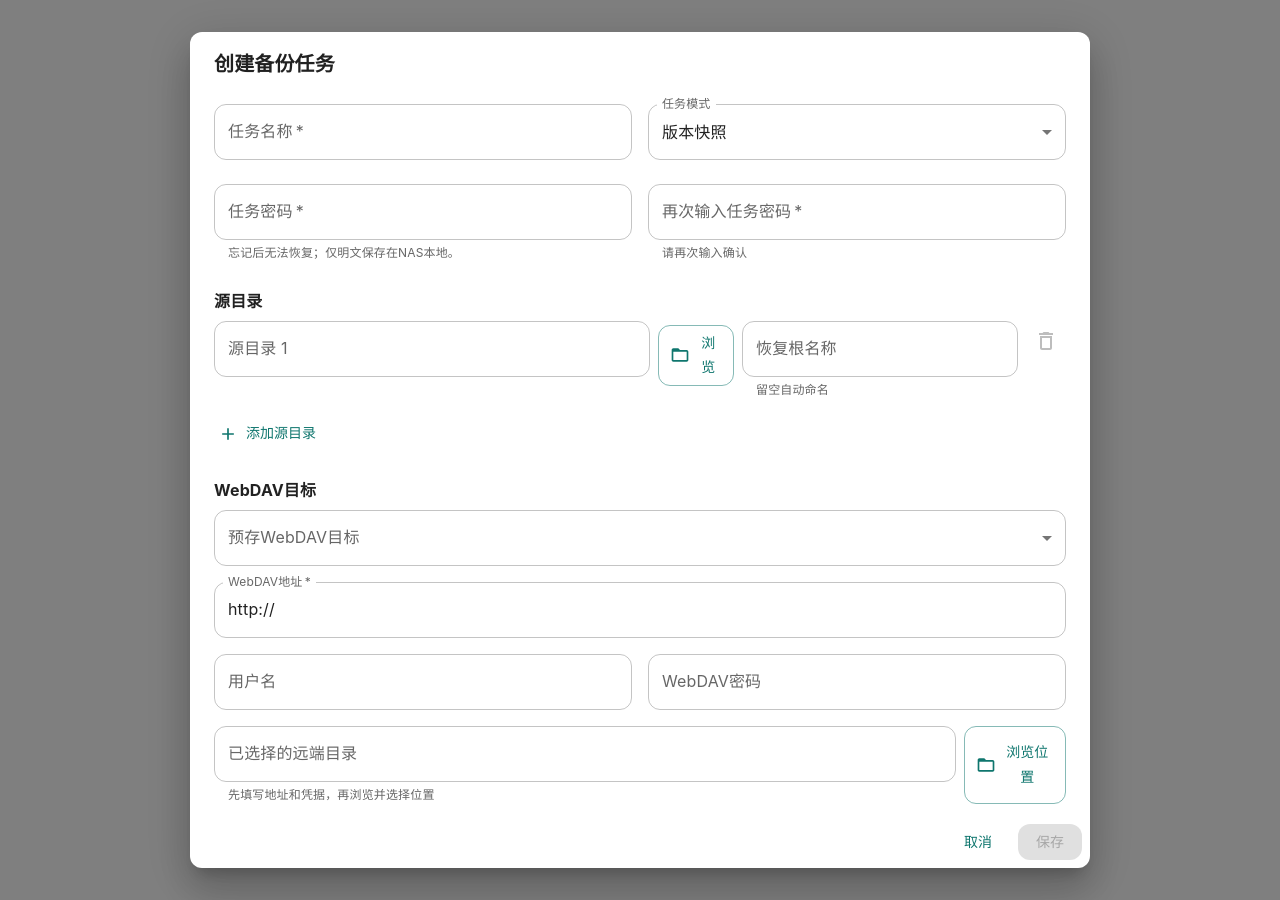
Test case: TaskDialog password confirmation › requires the two new-task passwords to match
Expected: the button "保存" is disabled, [1018, 824, 1082, 860]
In the password field labelled "任务密码 *": coordinates (423, 212) [214, 184, 632, 240], type "secret"
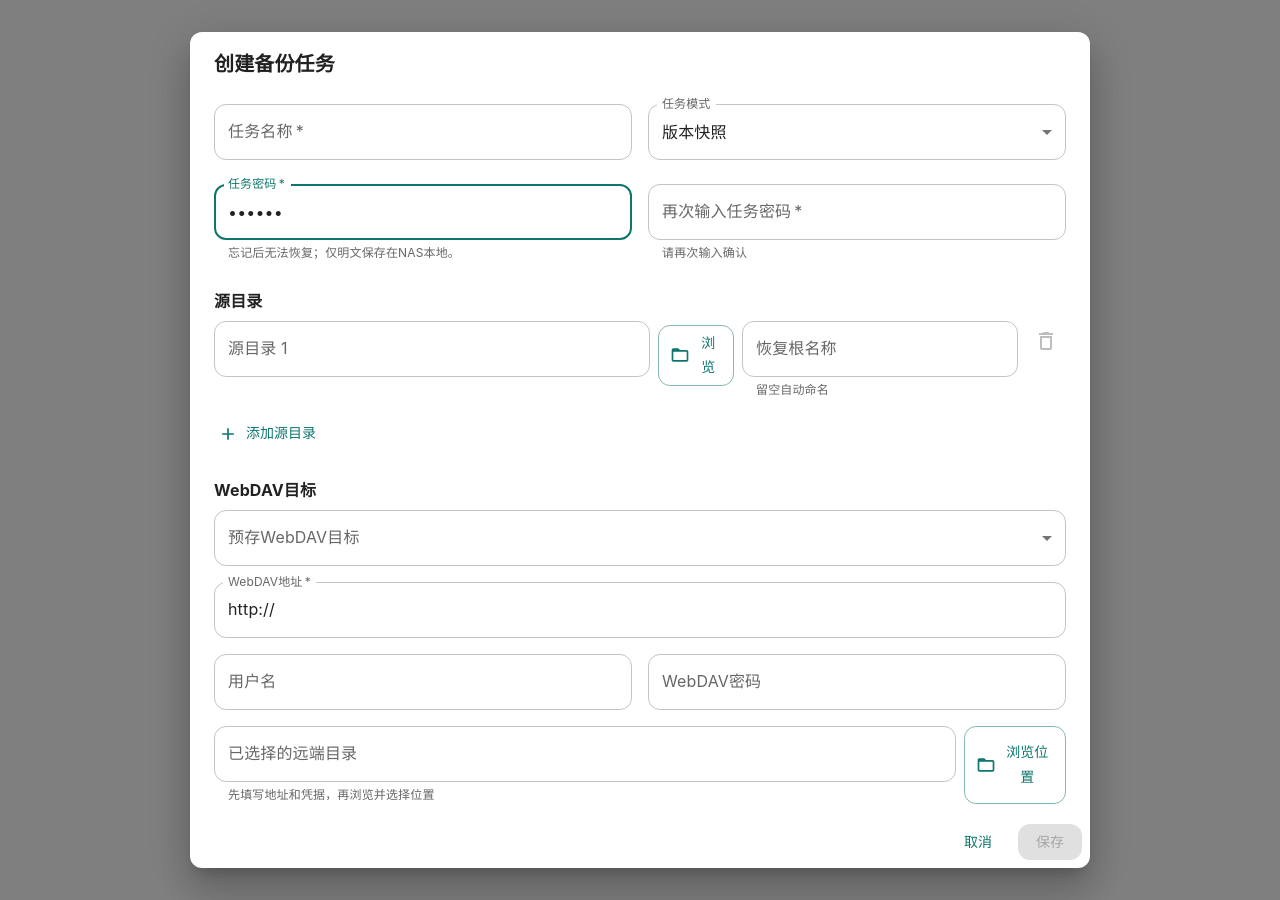
In the password field labelled "再次输入任务密码 *": coordinates (857, 212) [648, 184, 1066, 240], type "different"
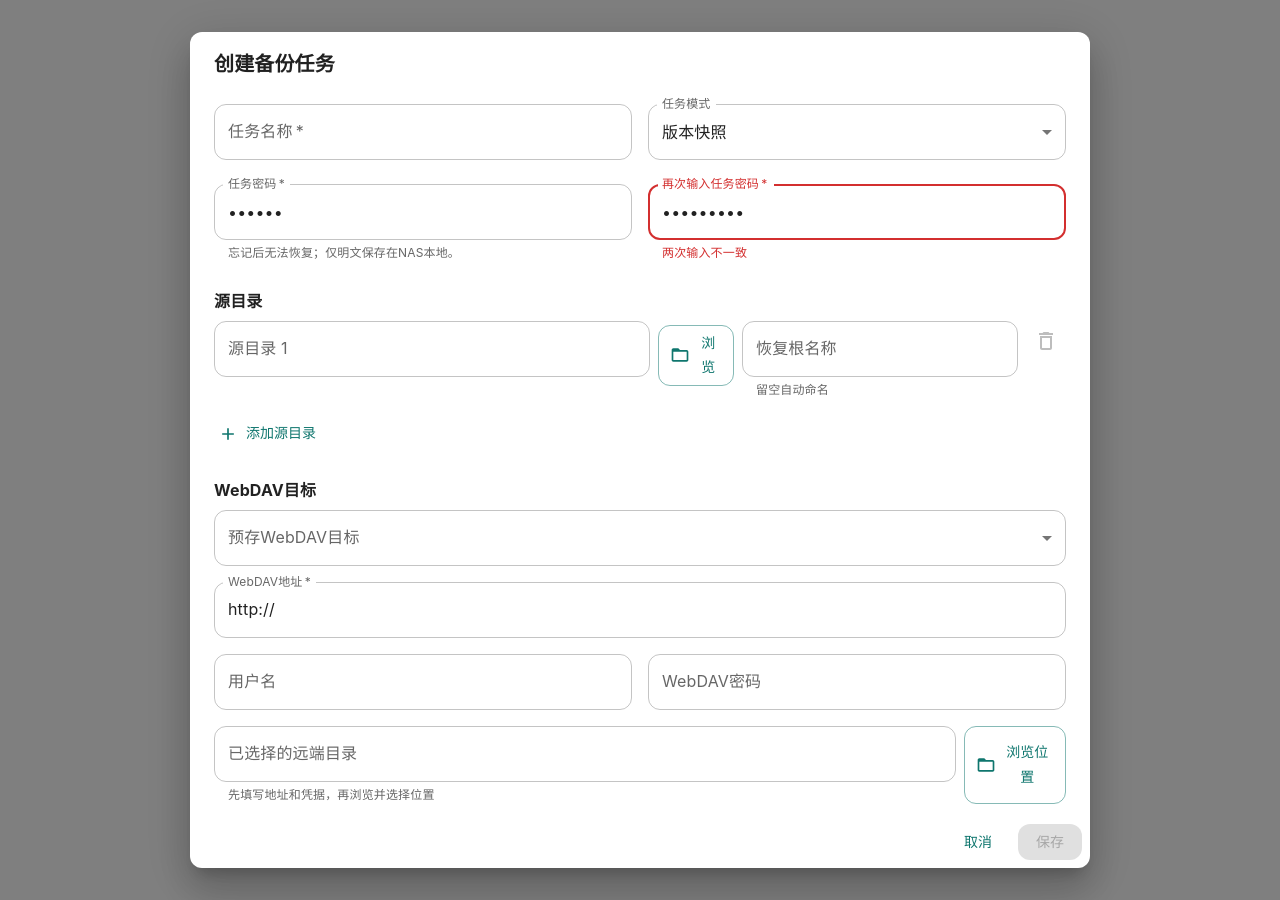
Expected: the button "保存" is disabled, [1018, 824, 1082, 860]
Expected: the text "两次输入不一致" is shown, [662, 245, 747, 260]
In the password field labelled "再次输入任务密码 *": coordinates (857, 212) [648, 184, 1066, 240], type "secret"
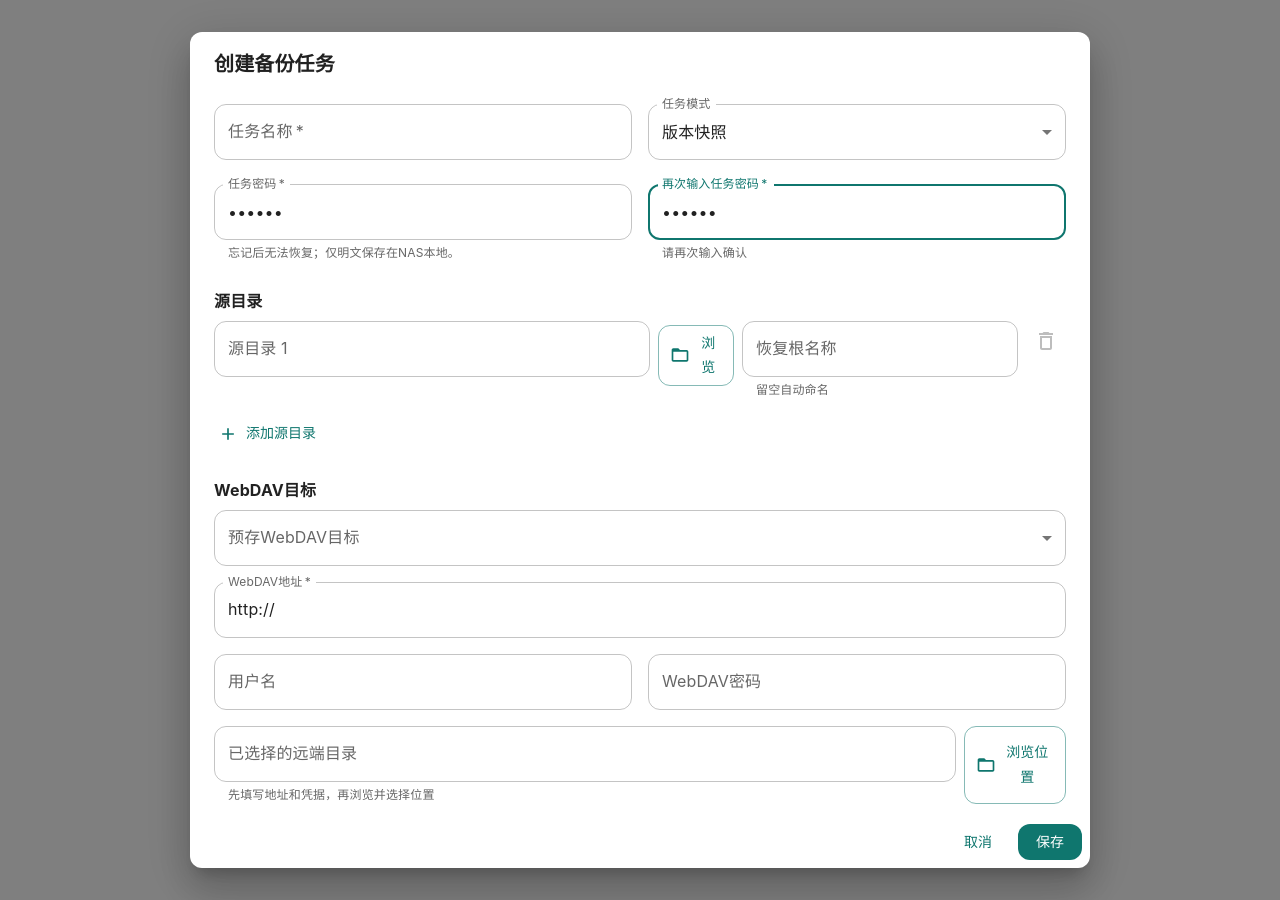
Expected: the button "保存" is enabled, [1018, 824, 1082, 860]
